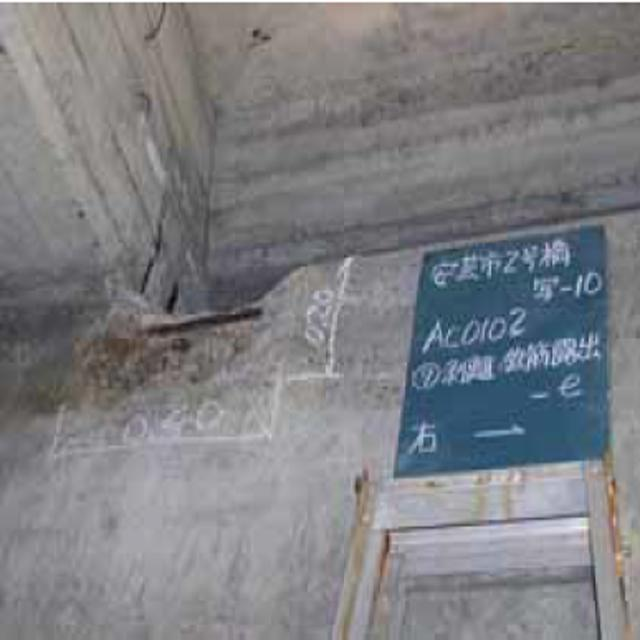spalling: (69, 254, 317, 400)
